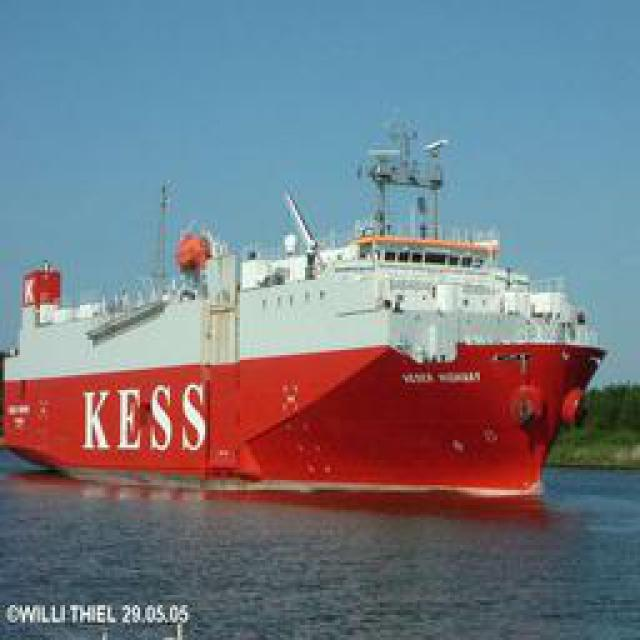Ship: (11, 107, 609, 495)
